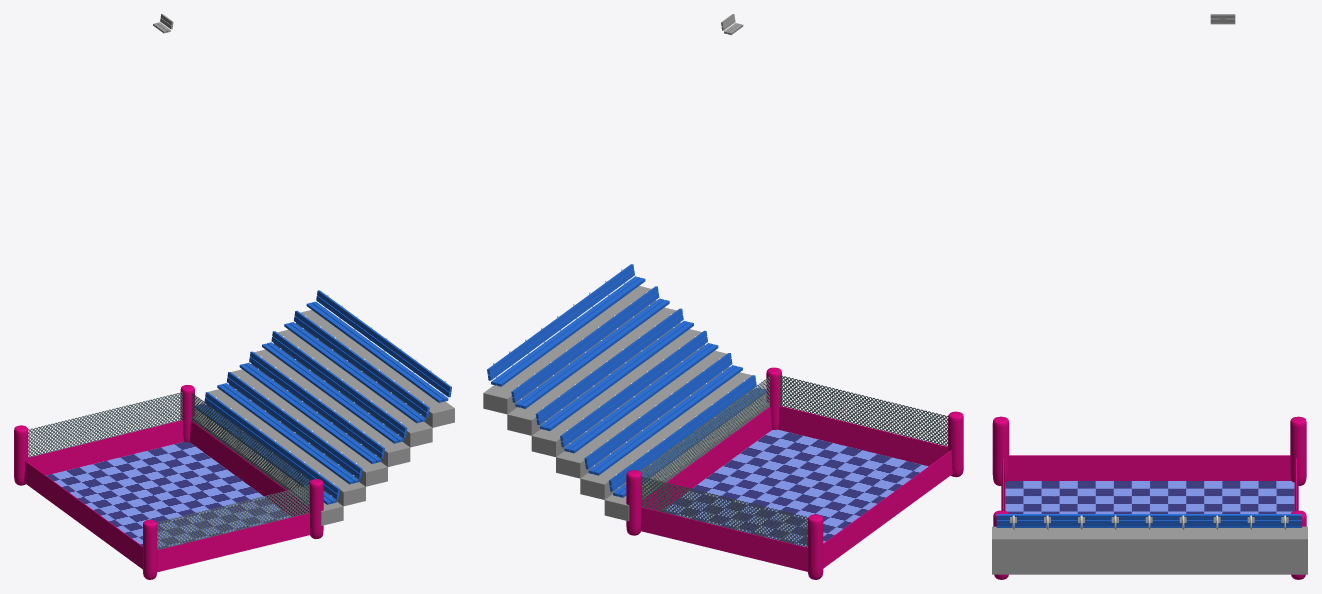
File: mappack.glb
The picture shows the model from 3 angles, left to right: view 1: azimuth 30°, elevation 25°; view 2: azimuth 150°, elevation 25°; view 3: azimuth 270°, elevation 25°; orthographic projection. The views are drawn at different scales.
Parts seen in each view (by area): view 1: Plane; view 2: Plane; view 3: Plane.
Boxes of the visible parts, x1,y1,x2,y2 form: Plane: (14,14,454,579); Plane: (483,14,963,579); Plane: (992,14,1307,579).
Size of the model in its own units: 45.42 by 65.29 by 34.94.
Materials: 6 (2 with a texture image).
